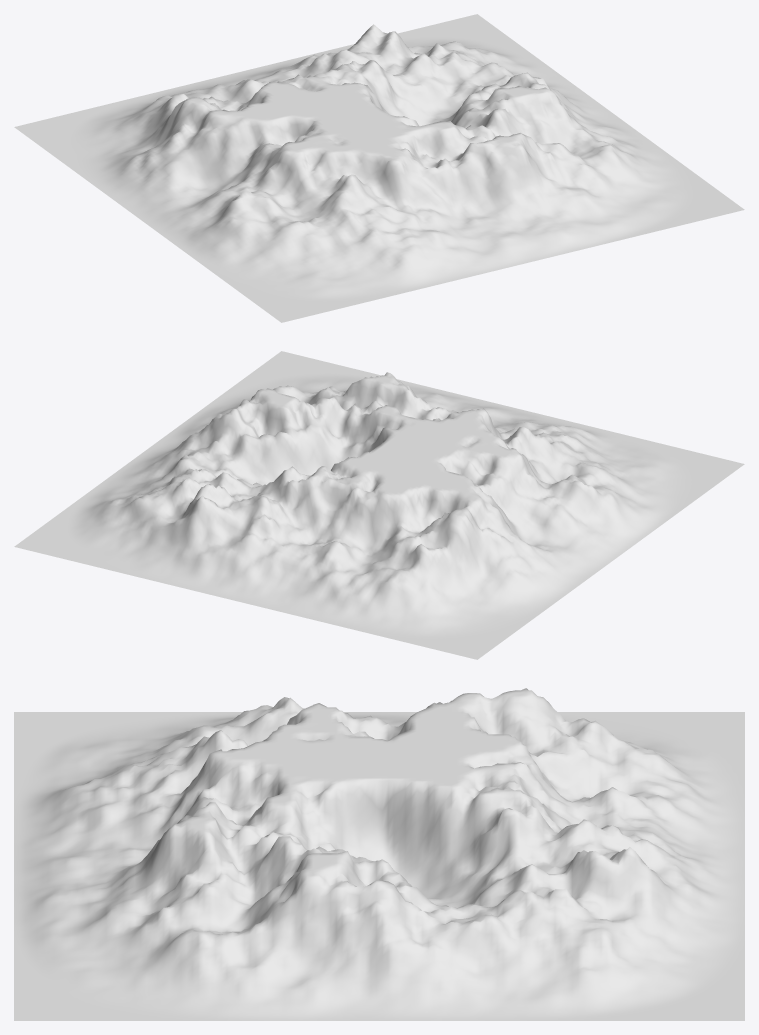
File: landscape.obj
3 views of the same model, one above another, from view 1: azimuth 30°, elevation 25°; view 2: azimuth 150°, elevation 25°; view 3: azimuth 270°, elevation 25° (orthographic). The views are drawn at different scales.
Visible parts, largest first — view 1: Landscape; view 2: Landscape; view 3: Landscape.
Part boxes in pixels (bbox=[...]): Landscape: bbox=[14, 14, 744, 322]; Landscape: bbox=[14, 351, 744, 659]; Landscape: bbox=[14, 688, 744, 1020].
Size of the model in its own units: 20 by 2.56 by 20.
